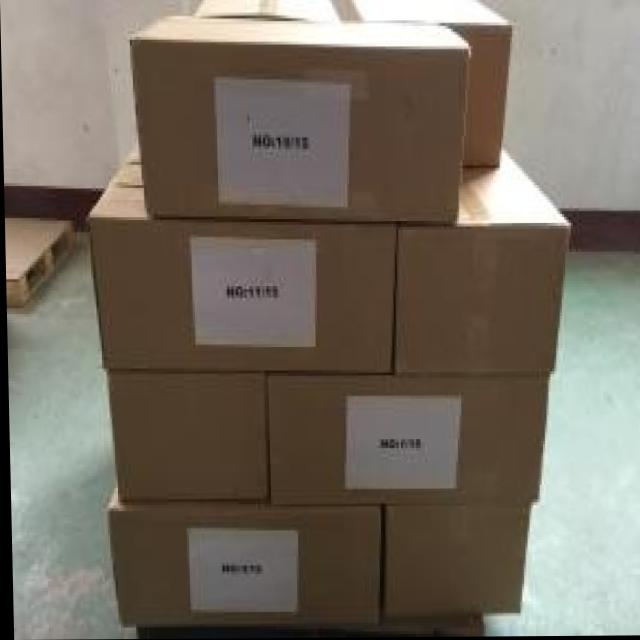box: (127, 15, 469, 226), (88, 184, 396, 374), (195, 0, 513, 169), (102, 481, 379, 629), (392, 148, 569, 378), (269, 377, 546, 506), (103, 374, 267, 500), (381, 508, 529, 620), (110, 166, 139, 187), (122, 147, 138, 165)
